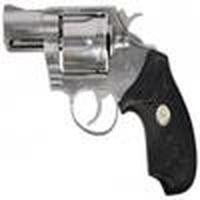gun: (2, 4, 194, 200)
